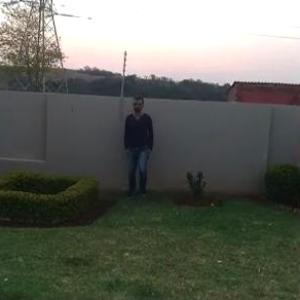follow: (123, 92, 156, 202)
